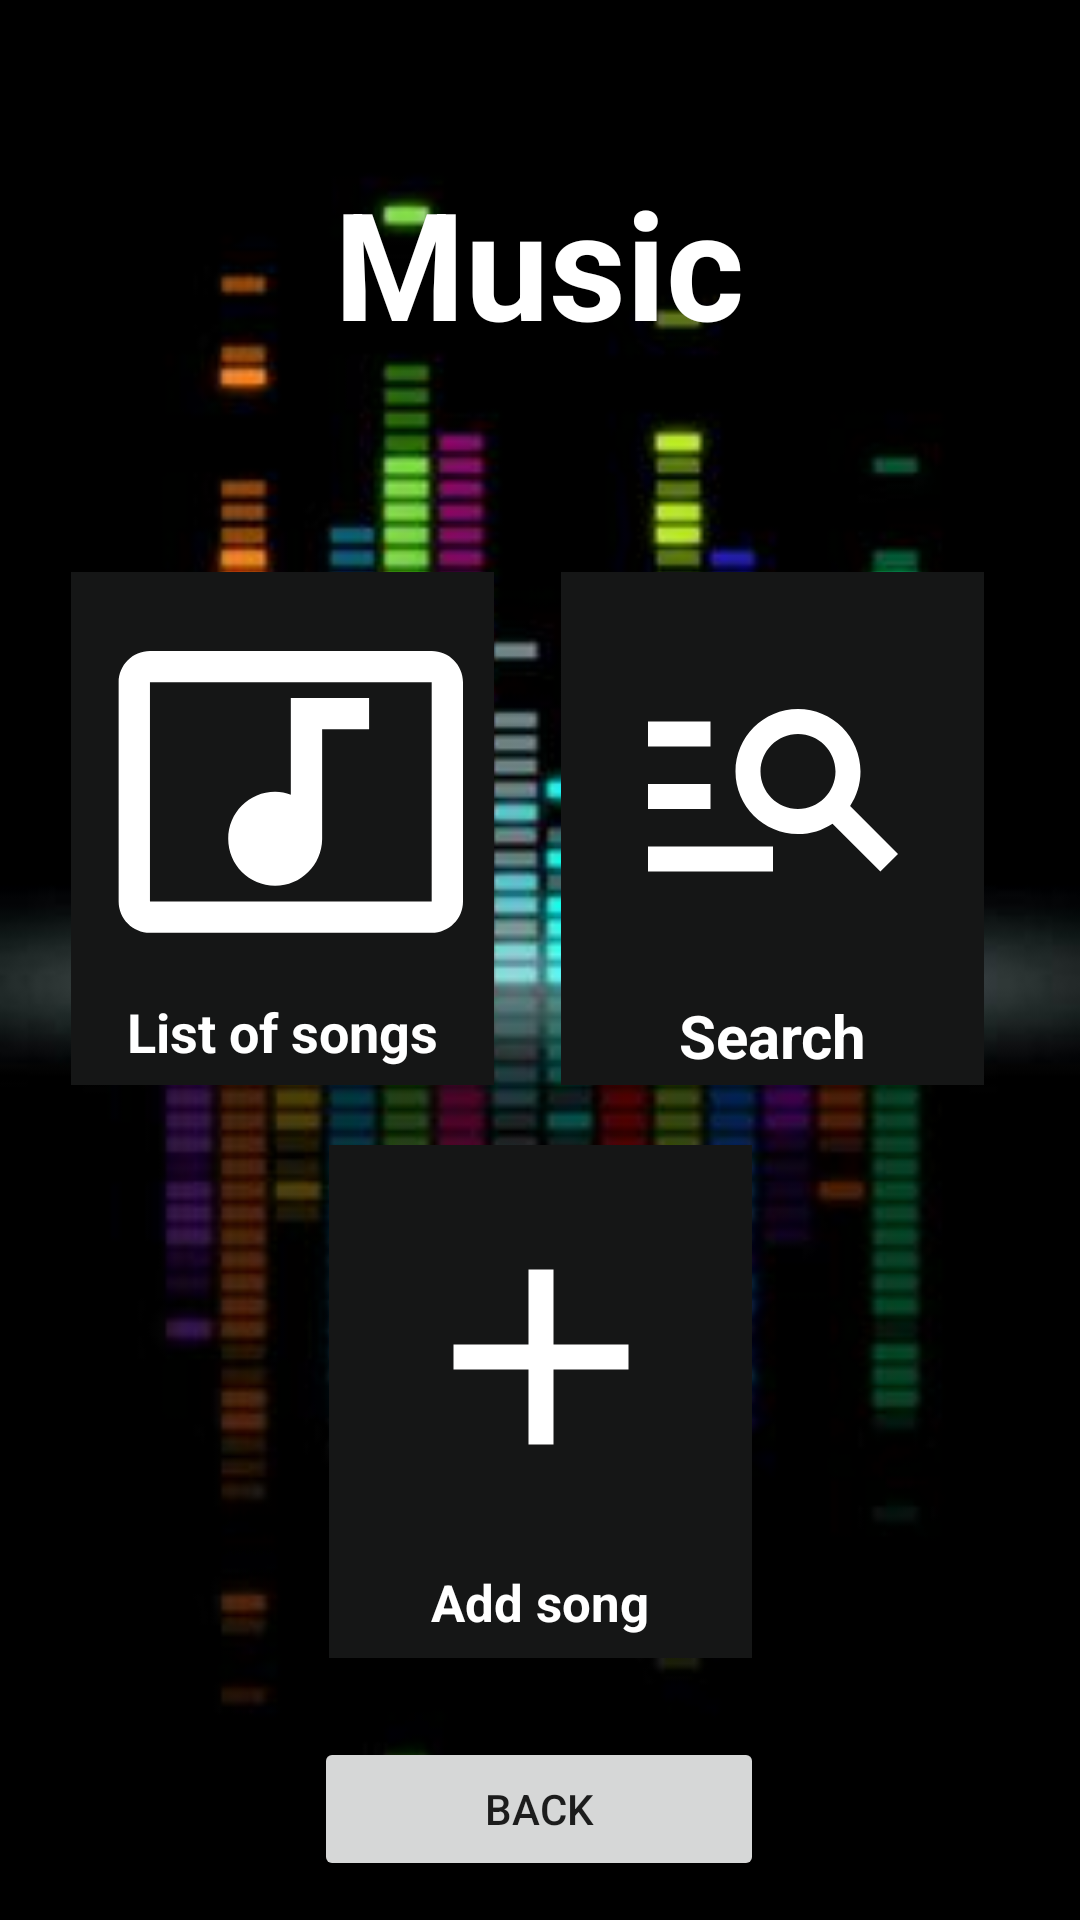

Where to tap for icons on this 1080px x 1920px app screen, as point (x, y):
music video: point (290, 792)
